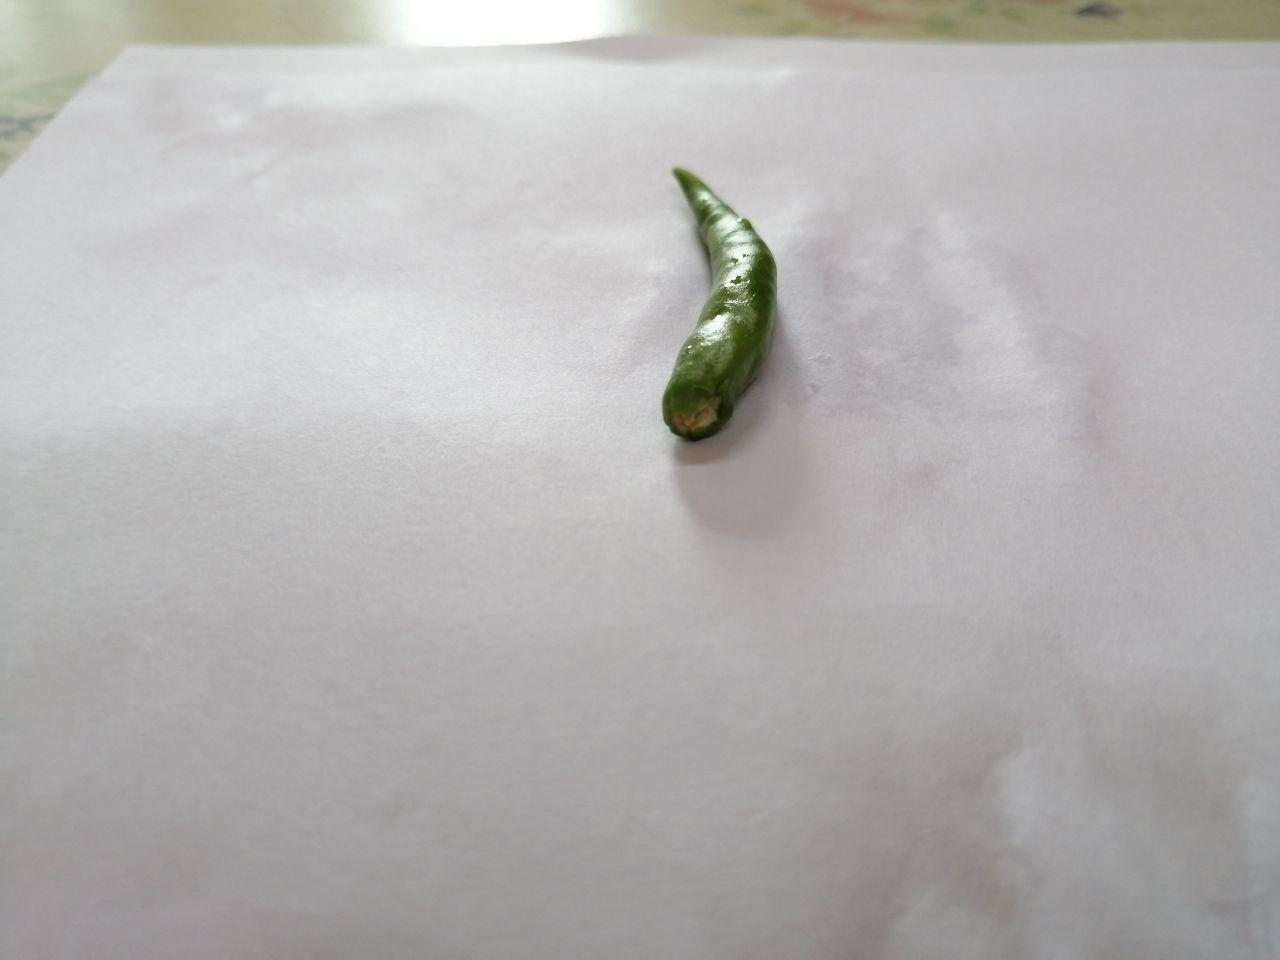lada hijau: (631, 146, 802, 487)
